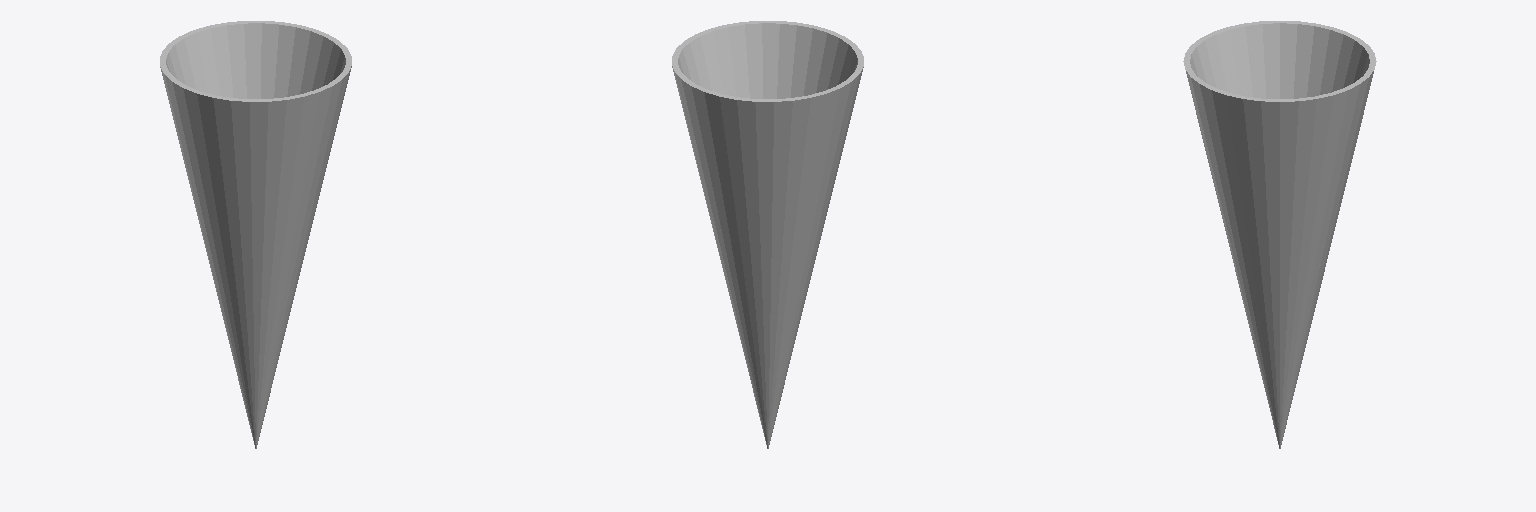
File: Icecream Cone.obj
3 renders of one model, left to right at view 1: azimuth 30°, elevation 25°; view 2: azimuth 150°, elevation 25°; view 3: azimuth 270°, elevation 25°, orthographic.
Parts seen in each view (by area): view 1: Cone; view 2: Cone; view 3: Cone.
Boxes of the visible parts, box(x1,y1,x2,y2) form: Cone: box(160, 21, 351, 448); Cone: box(672, 21, 863, 448); Cone: box(1183, 21, 1376, 448).
Size of the model in its own units: 0.0989 by 0.22 by 0.0989.